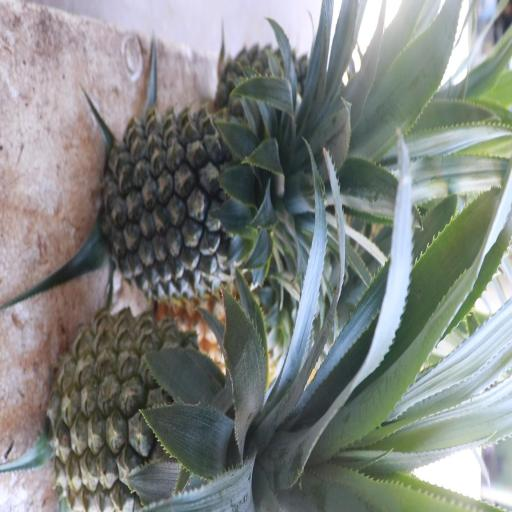------------------------------: (52, 307, 276, 512)
